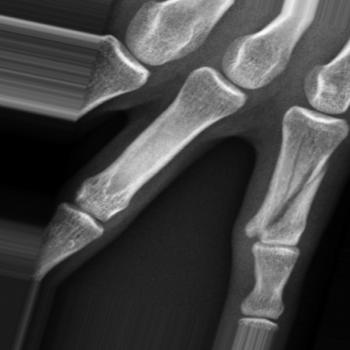Fracture: (243, 140, 340, 240)
